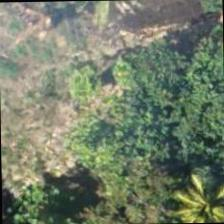Kelapa_Sawit: (158, 171, 223, 223)
